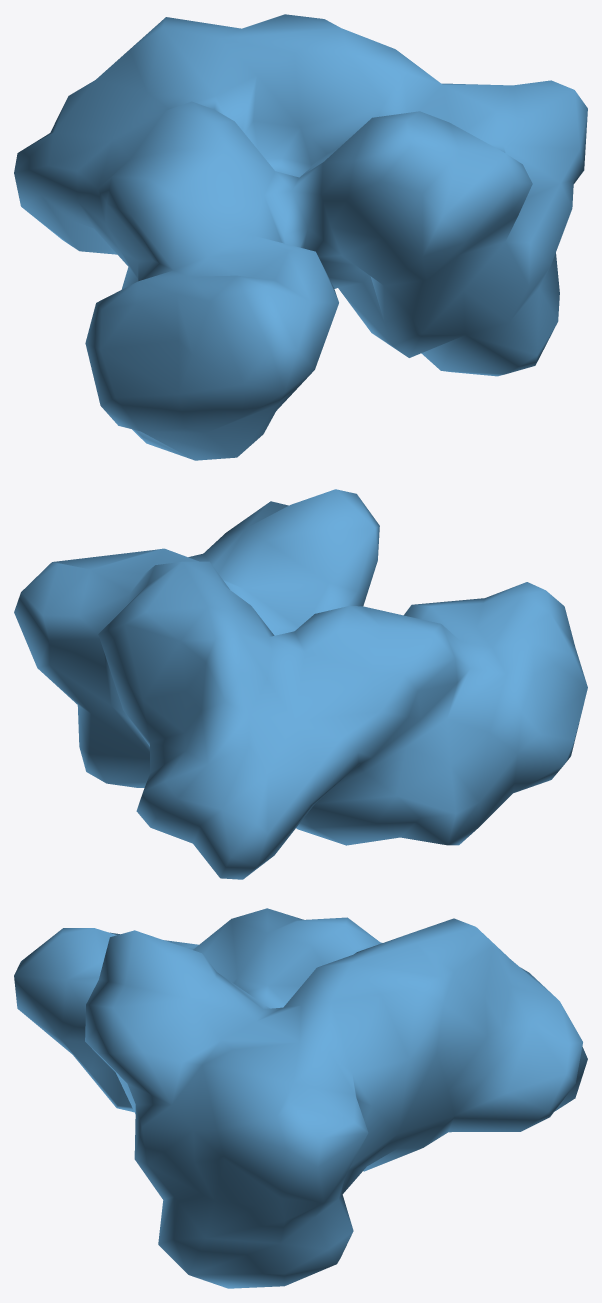
File: SerumAlbumin_1.dae
The picture shows the model from 3 angles, top to bottom: view 1: azimuth 30°, elevation 25°; view 2: azimuth 150°, elevation 25°; view 3: azimuth 270°, elevation 25°; orthographic projection. The views are drawn at different scales.
Visible parts, largest first — view 1: CoarseMS_1e7iRed90; view 2: CoarseMS_1e7iRed90; view 3: CoarseMS_1e7iRed90.
Boxes of the visible parts, left/top/right/bottom form: CoarseMS_1e7iRed90: left=14, top=14, right=587, bottom=460; CoarseMS_1e7iRed90: left=14, top=489, right=587, bottom=879; CoarseMS_1e7iRed90: left=14, top=908, right=587, bottom=1288.
Bounding box in the file's own units: 88.95 × 50.42 × 88.73.
